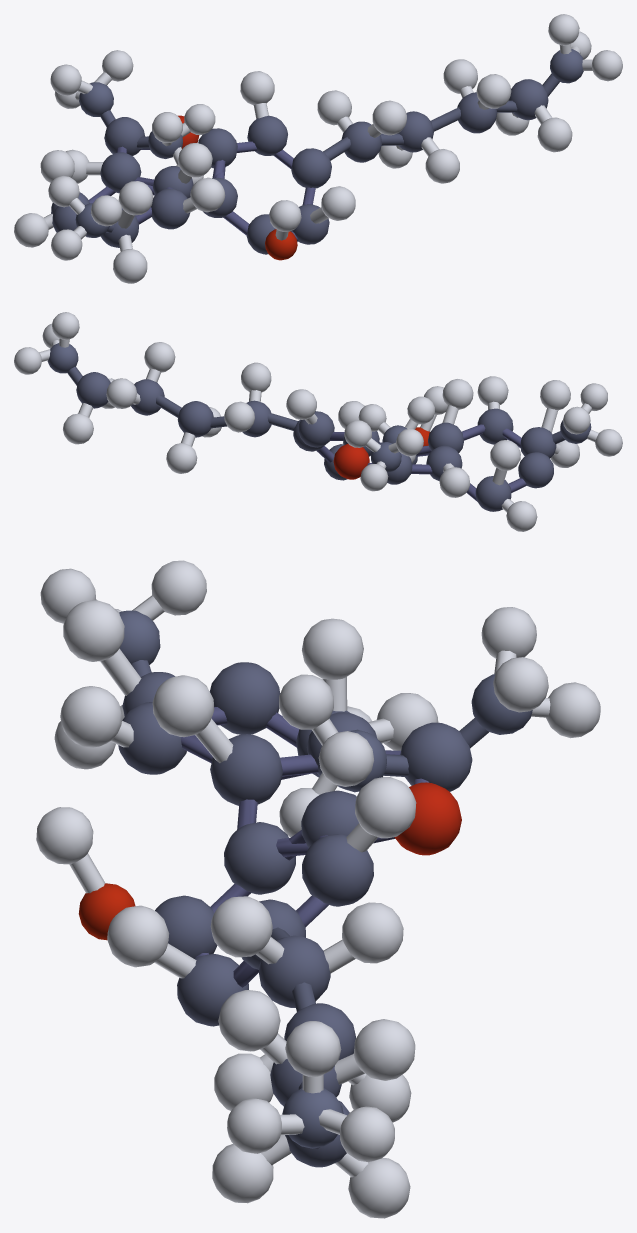
The model's file is thc molecule.obj.
The picture shows the model from 3 angles, top to bottom: view 1: azimuth 30°, elevation 25°; view 2: azimuth 150°, elevation 25°; view 3: azimuth 270°, elevation 25°; orthographic projection. The views are drawn at different scales.
Visible parts, largest first — view 1: THC_Molecule Group44 sngl_gray_ball, THC_Molecule 1_white Form25, THC_Molecule 3_white_1_gray 1_gray_3_white Group6 Form1, THC_Molecule 2_white_1_gray_and_post_ 1_gray_2_white 1_white For, THC_Molecule 2_white_1_gray_and_post_ 1_gray_2_white sngl_gray_b, THC_Molecule 3_white_1_gray 1_gray_3_white Form22, THC_Molecule Group44 Form74, THC_Molecule 1_white Shape0, THC_Molecule 2_white_1_gray_and_post_ gray_post, THC_Molecule 3_white_1_gray 1_gray_3_white Group6 Shape26, THC_Molecule 2_white_1_gray_and_post_ 1_gray_2_white 1_white Sha, THC_Molecule 1red_1white Group6 Form1 (+2 smaller); view 2: THC_Molecule Group44 sngl_gray_ball, THC_Molecule 3_white_1_gray 1_gray_3_white Group6 Form1, THC_Molecule 1_white Form25, THC_Molecule 2_white_1_gray_and_post_ 1_gray_2_white 1_white For, THC_Molecule 2_white_1_gray_and_post_ 1_gray_2_white sngl_gray_b, THC_Molecule 3_white_1_gray 1_gray_3_white Form22, THC_Molecule Group44 Form74, THC_Molecule 1_white Shape0, THC_Molecule Group44 sngl_red_ball, THC_Molecule 3_white_1_gray 1_gray_3_white Group6 Shape26, THC_Molecule 2_white_1_gray_and_post_ gray_post, THC_Molecule 2_white_1_gray_and_post_ 1_gray_2_white 1_white Sha (+1 smaller); view 3: THC_Molecule Group44 sngl_gray_ball, THC_Molecule 3_white_1_gray 1_gray_3_white Group6 Form1, THC_Molecule 2_white_1_gray_and_post_ 1_gray_2_white 1_white For, THC_Molecule 1_white Form25, THC_Molecule 2_white_1_gray_and_post_ 1_gray_2_white sngl_gray_b, THC_Molecule 3_white_1_gray 1_gray_3_white Form22, THC_Molecule Group44 Form74, THC_Molecule 1_white Shape0, THC_Molecule Group44 sngl_red_ball, THC_Molecule 2_white_1_gray_and_post_ 1_gray_2_white 1_white Sha, THC_Molecule 3_white_1_gray 1_gray_3_white Group6 Shape26, THC_Molecule 1red_1white Group6 Form1 (+2 smaller).
Part boxes in pixels (x1=…): THC_Molecule Group44 sngl_gray_ball: x1=51, y1=115, x2=331, y2=254; THC_Molecule 1_white Form25: x1=14, y1=71, x2=355, y2=283; THC_Molecule 3_white_1_gray 1_gray_3_white Group6 Form1: x1=48, y1=14, x2=622, y2=260; THC_Molecule 2_white_1_gray_and_post_ 1_gray_2_white 1_white For: x1=317, y1=59, x2=572, y2=183; THC_Molecule 2_white_1_gray_and_post_ 1_gray_2_white sngl_gray_b: x1=341, y1=79, x2=548, y2=162; THC_Molecule 3_white_1_gray 1_gray_3_white Form22: x1=75, y1=49, x2=583, y2=237; THC_Molecule Group44 Form74: x1=88, y1=141, x2=315, y2=241; THC_Molecule 1_white Shape0: x1=44, y1=103, x2=328, y2=251; THC_Molecule 2_white_1_gray_and_post_ gray_post: x1=323, y1=100, x2=517, y2=160; THC_Molecule 3_white_1_gray 1_gray_3_white Group6 Shape26: x1=69, y1=43, x2=592, y2=239; THC_Molecule 2_white_1_gray_and_post_ 1_gray_2_white 1_white Sha: x1=337, y1=86, x2=552, y2=156; THC_Molecule 1red_1white Group6 Form1: x1=269, y1=200, x2=301, y2=231; THC_Molecule Group44 sngl_gray_ball: x1=293, y1=408, x2=556, y2=511; THC_Molecule 3_white_1_gray 1_gray_3_white Group6 Form1: x1=14, y1=312, x2=622, y2=491; THC_Molecule 1_white Form25: x1=286, y1=376, x2=579, y2=531; THC_Molecule 2_white_1_gray_and_post_ 1_gray_2_white 1_white For: x1=63, y1=342, x2=271, y2=473; THC_Molecule 2_white_1_gray_and_post_ 1_gray_2_white sngl_gray_b: x1=76, y1=372, x2=271, y2=437; THC_Molecule 3_white_1_gray 1_gray_3_white Form22: x1=47, y1=343, x2=591, y2=472; THC_Molecule Group44 Form74: x1=316, y1=424, x2=526, y2=501; THC_Molecule 1_white Shape0: x1=305, y1=401, x2=560, y2=512; THC_Molecule Group44 sngl_red_ball: x1=333, y1=443, x2=369, y2=479; THC_Molecule 3_white_1_gray 1_gray_3_white Group6 Shape26: x1=39, y1=338, x2=598, y2=468; THC_Molecule 2_white_1_gray_and_post_ gray_post: x1=156, y1=395, x2=297, y2=430; THC_Molecule 2_white_1_gray_and_post_ 1_gray_2_white 1_white Sha: x1=78, y1=368, x2=261, y2=446; THC_Molecule Group44 sngl_gray_ball: x1=118, y1=662, x2=472, y2=1026; THC_Molecule 3_white_1_gray 1_gray_3_white Group6 Form1: x1=40, y1=560, x2=600, y2=1161; THC_Molecule 2_white_1_gray_and_post_ 1_gray_2_white 1_white For: x1=210, y1=896, x2=415, y2=1218; THC_Molecule 1_white Form25: x1=54, y1=600, x2=438, y2=967; THC_Molecule 2_white_1_gray_and_post_ 1_gray_2_white sngl_gray_b: x1=259, y1=935, x2=355, y2=1167; THC_Molecule 3_white_1_gray 1_gray_3_white Form22: x1=119, y1=610, x2=532, y2=1148; THC_Molecule Group44 Form74: x1=181, y1=707, x2=428, y2=987; THC_Molecule 1_white Shape0: x1=100, y1=648, x2=393, y2=978; THC_Molecule Group44 sngl_red_ball: x1=394, y1=782, x2=461, y2=855; THC_Molecule 2_white_1_gray_and_post_ 1_gray_2_white 1_white Sha: x1=256, y1=937, x2=368, y2=1177; THC_Molecule 3_white_1_gray 1_gray_3_white Group6 Shape26: x1=96, y1=595, x2=550, y2=1134; THC_Molecule 1red_1white Group6 Form1: x1=36, y1=807, x2=93, y2=864.
Bounding box in the file's own units: 26.3 × 6.39 × 11.88.
